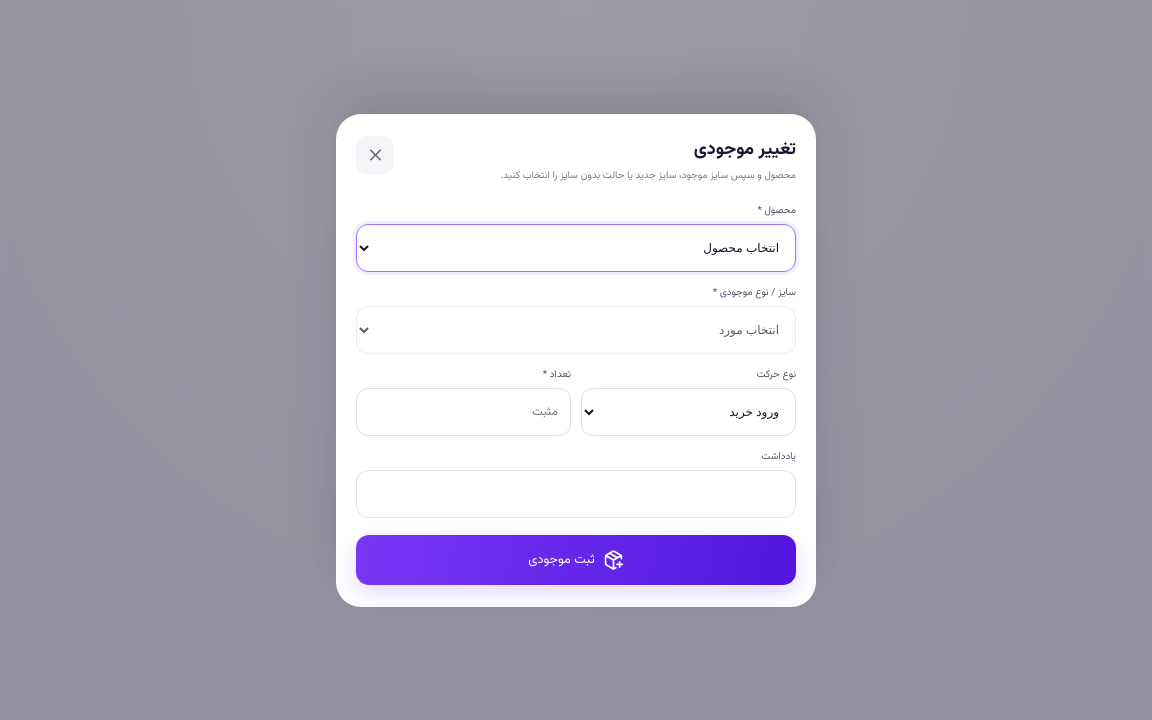
Test: InventoryMovementModal › shows products with no variants and hides new-size creation without catalog permission
Select "Jordan 1 Celadon" in the dropdown labelled "محصول *". click: (576, 248)
box: [356,224,796,272]
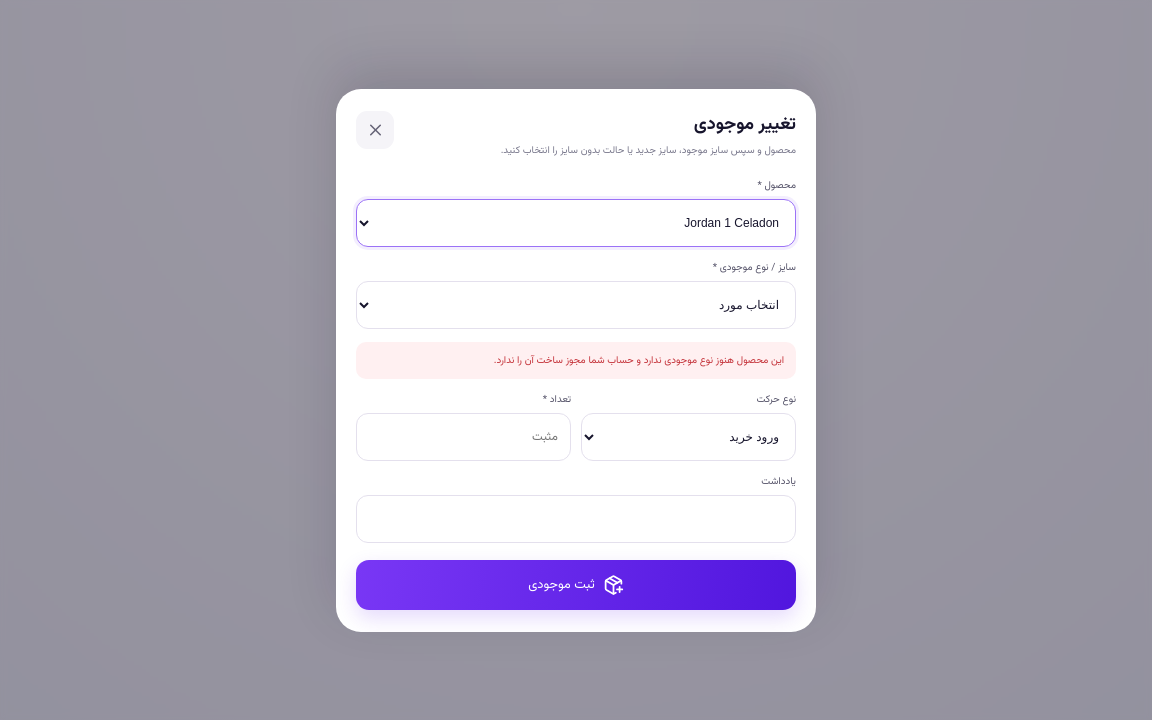
Now the text "مجوز ساخت آن را ندارد" is shown, box [494,352,784,368]
